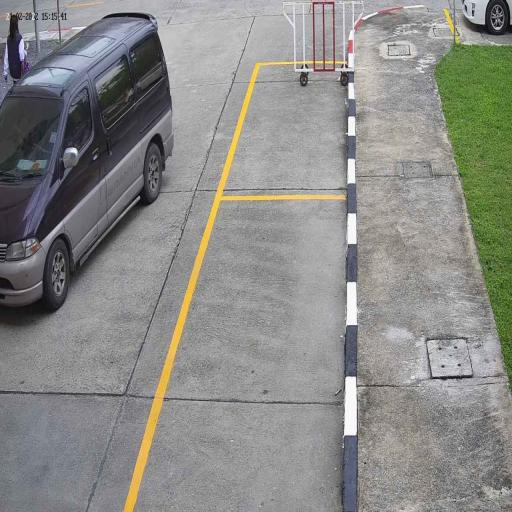car: (0, 10, 175, 310)
